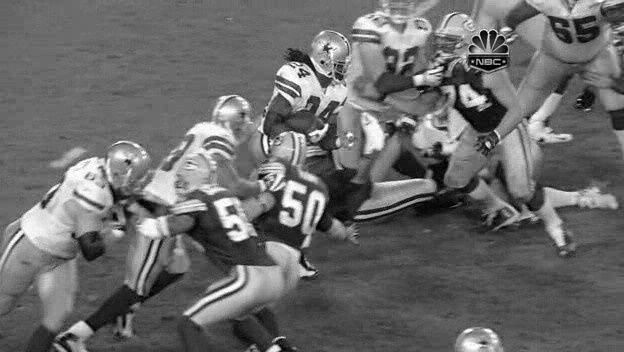person: (316, 36, 351, 80), (315, 36, 350, 80), (317, 36, 352, 80), (316, 35, 351, 79), (316, 37, 351, 81)
target_negative: (296, 17, 585, 128), (413, 50, 466, 348), (191, 216, 291, 327), (56, 161, 239, 191), (160, 5, 337, 22), (169, 350, 356, 352)
